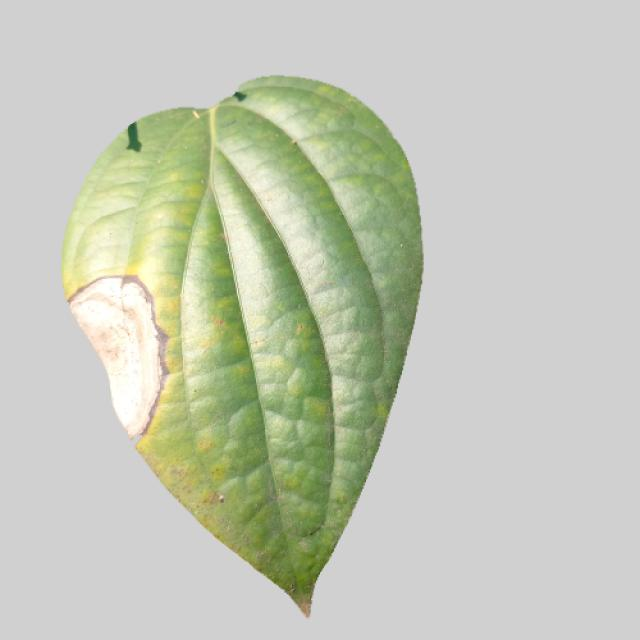leaf-blight: (44, 90, 442, 624)
